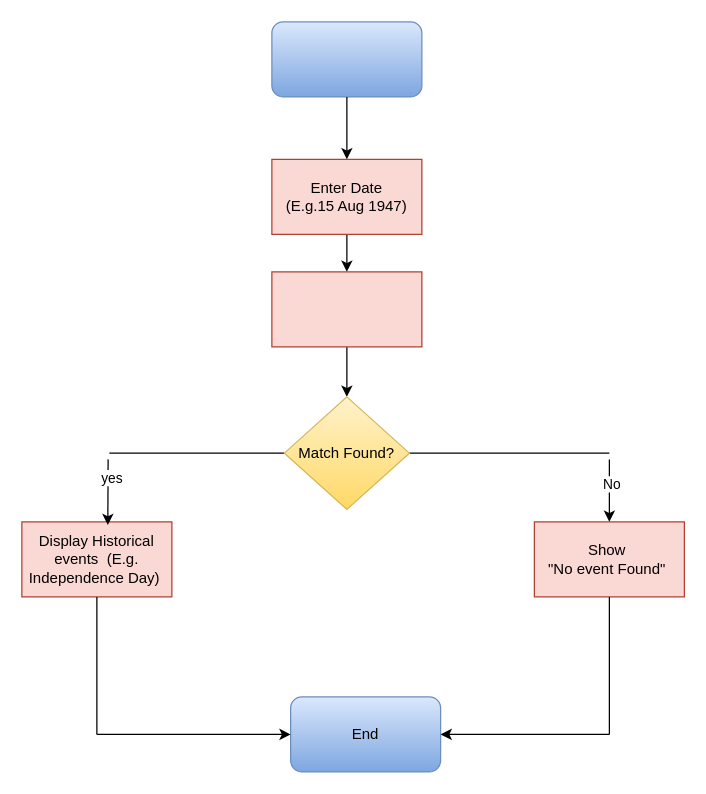
Some shapes in this 706 by 794 pixel diagram are drawn without their labels. Here are the shapes that lost their labels. From the top down, the box of each, then its label:
(271, 21, 422, 97): Start
(271, 271, 422, 347): System Checks history database
